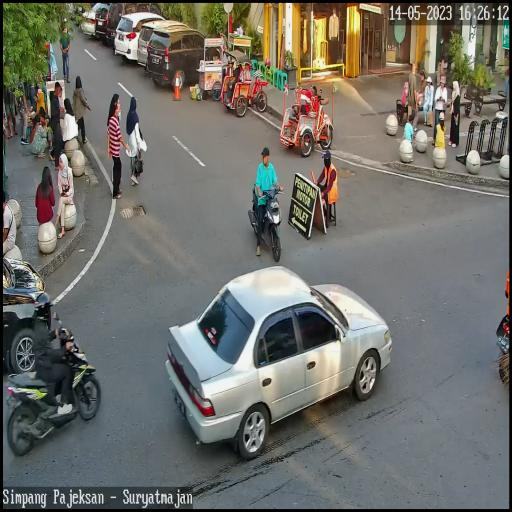mobil: (166, 274, 392, 457), (146, 25, 208, 91), (114, 12, 166, 62), (138, 22, 188, 72)
motor: (0, 337, 101, 458), (248, 168, 286, 260)
